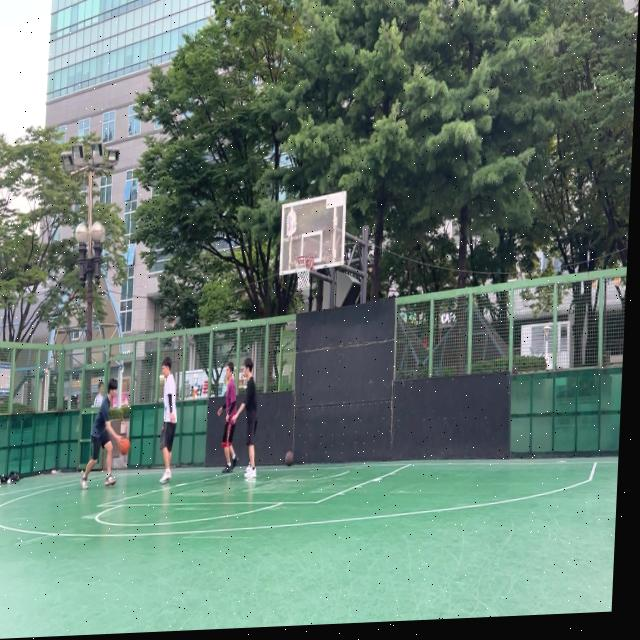basketball: (119, 438, 131, 456), (284, 450, 295, 467)
hoop: (293, 255, 314, 293)
